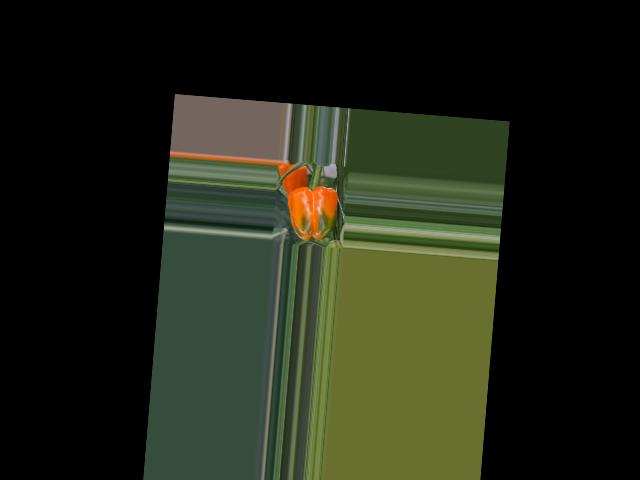bell_pepper: (282, 177, 346, 247)
